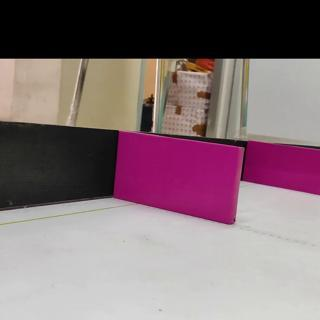xparking: (121, 146, 238, 221), (245, 149, 320, 185)
